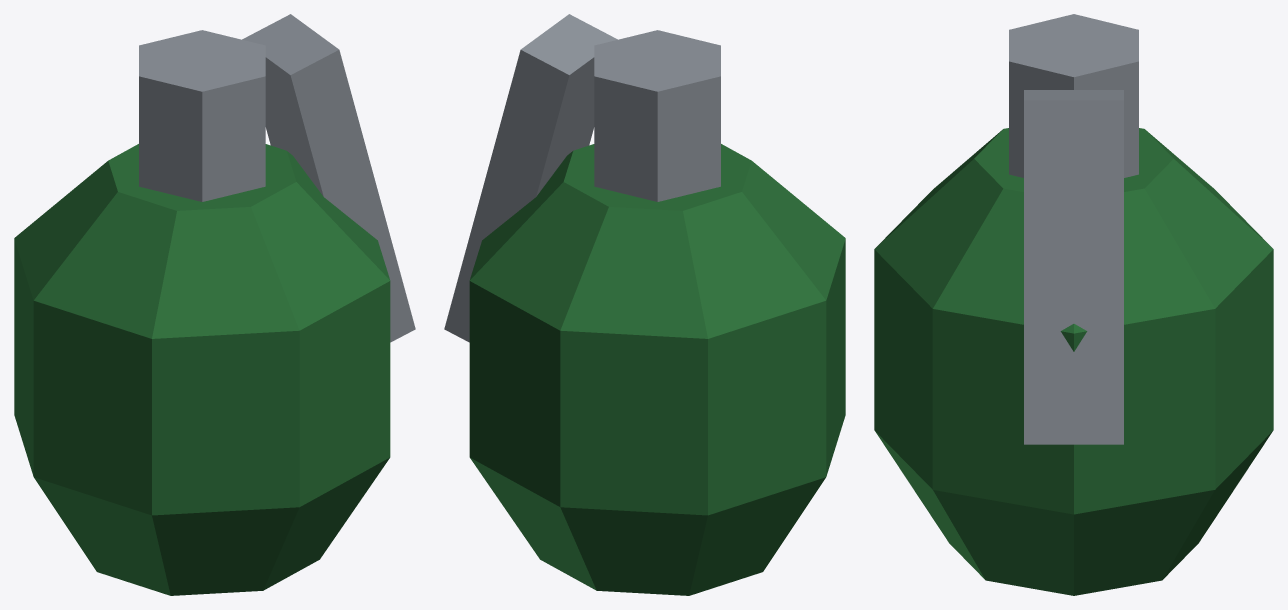
File: wpn_grenade.glb
The picture shows the model from 3 angles, left to right: view 1: azimuth 30°, elevation 25°; view 2: azimuth 150°, elevation 25°; view 3: azimuth 270°, elevation 25°; orthographic projection. The views are drawn at different scales.
Parts seen in each view (by area): view 1: wpn_grenade__body; view 2: wpn_grenade__body; view 3: wpn_grenade__body.
Part boxes in pixels (bbox=[...]): wpn_grenade__body: bbox=[14, 14, 415, 595]; wpn_grenade__body: bbox=[444, 14, 845, 595]; wpn_grenade__body: bbox=[874, 14, 1273, 595].
Bounding box in the file's own units: 0.0849 × 0.1104 × 0.08.
